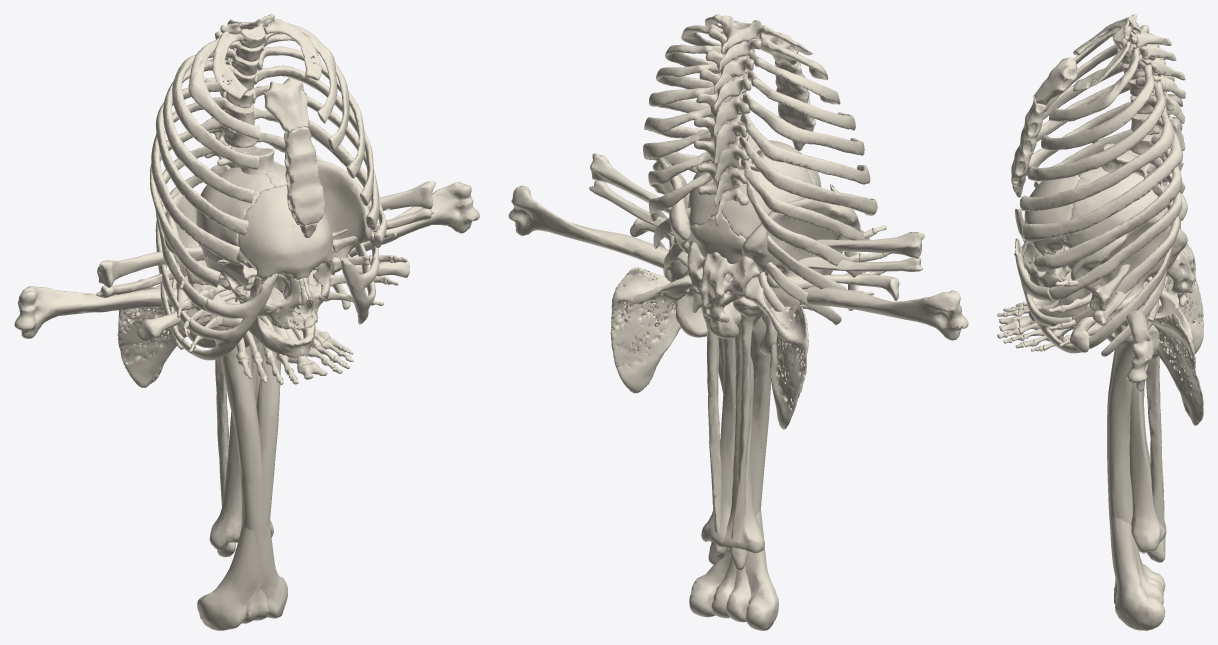
The model's file is real-skeleton.glb.
The picture shows the model from 3 angles, left to right: view 1: azimuth 30°, elevation 25°; view 2: azimuth 150°, elevation 25°; view 3: azimuth 270°, elevation 25°; orthographic projection. The views are drawn at different scales.
Visible parts, largest first — view 1: chest, head, upperLegL, upperLegR, hips, shoulderL, upperArmR, upperArmL, lowerLegL, lowerArmR, footR, lowerLegR (+5 smaller); view 2: chest, hips, shoulderR, lowerLegL, lowerLegR, shoulderL, head, upperLegR, upperArmR, upperArmL, upperLegL, lowerArmR (+1 smaller); view 3: chest, head, upperLegL, shoulderR, hips, upperLegR, lowerLegR, lowerLegL, upperArmL, footL, lowerArmL, shoulderL (+3 smaller).
Boxes of the visible parts, x1,y1,x2,y2 form: chest: (150,14,387,360); head: (196,163,332,358); upperLegL: (197,298,280,630); upperLegR: (213,326,287,623); hips: (164,160,371,348); shoulderL: (117,279,188,387); upperArmR: (14,286,235,338); upperArmL: (349,182,479,256); lowerLegL: (209,290,258,551); lowerArmR: (96,246,204,298); footR: (226,316,313,384); lowerLegR: (215,342,273,557); chest: (643,14,877,324); hips: (652,157,860,355); shoulderR: (610,218,702,393); lowerLegL: (705,294,765,564); lowerLegR: (693,288,756,570); shoulderL: (744,274,899,429); head: (688,140,821,277); upperLegR: (689,316,770,622); upperArmR: (770,286,968,340); upperArmL: (508,185,670,271); upperLegL: (701,306,778,630); lowerArmR: (798,232,924,271); chest: (1011,14,1185,356); head: (1014,167,1180,321); upperLegL: (1107,325,1165,604); shoulderR: (1070,281,1203,425); hips: (1071,181,1194,360); upperLegR: (1107,349,1165,630); lowerLegR: (1129,299,1166,553); lowerLegL: (1144,276,1167,562); upperArmL: (1126,308,1154,391); footL: (997,294,1184,351); lowerArmL: (1089,264,1139,324); shoulderL: (1165,243,1203,353).
Size of the model in its own units: 0.6141 by 0.7707 by 0.2439.
